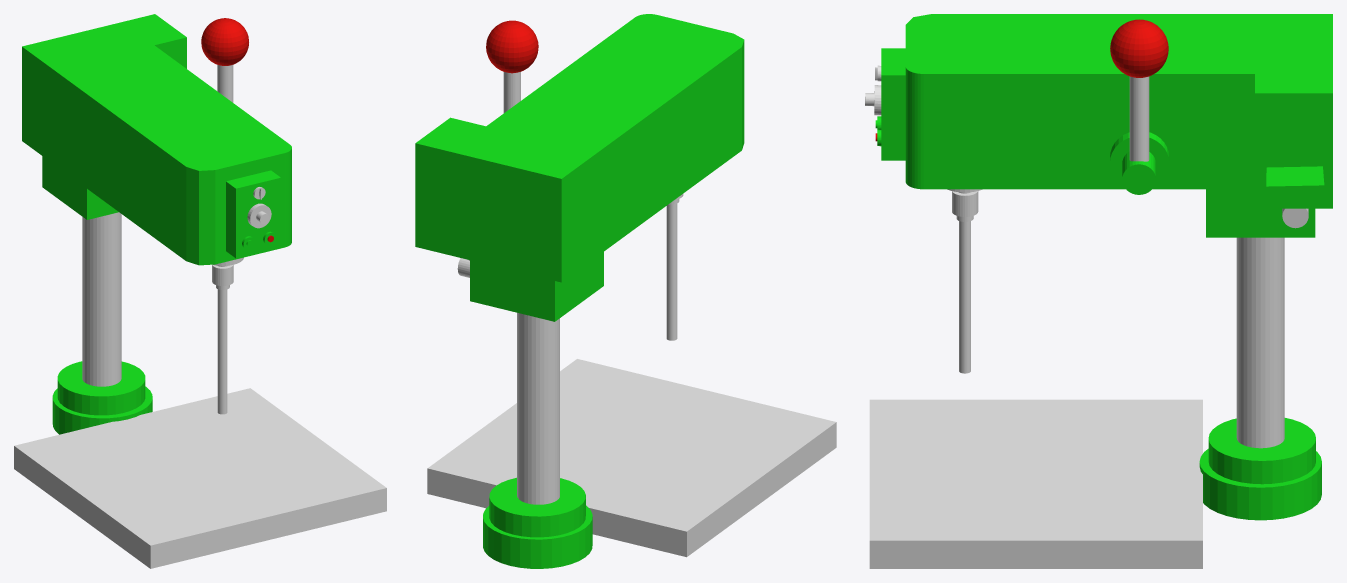
The picture shows the model from 3 angles, left to right: view 1: azimuth 30°, elevation 25°; view 2: azimuth 150°, elevation 25°; view 3: azimuth 270°, elevation 25°; orthographic projection. The views are drawn at different scales.
Parts seen in each view (by area): view 1: Cube.001, Cube, Cylinder; view 2: Cube.001, Cube, Cylinder; view 3: Cube.001, Cube, Cylinder.
Part boxes in pixels (x1,y1,x2,y2): Cube.001: (22, 14, 291, 434); Cube: (14, 388, 386, 568); Cylinder: (217, 289, 227, 414); Cube.001: (415, 14, 744, 568); Cube: (427, 359, 836, 557); Cylinder: (666, 203, 677, 340); Cube.001: (865, 14, 1332, 520); Cube: (869, 399, 1202, 568); Cylinder: (959, 221, 970, 373).
Size of the model in its own units: 178 by 304 by 250.
